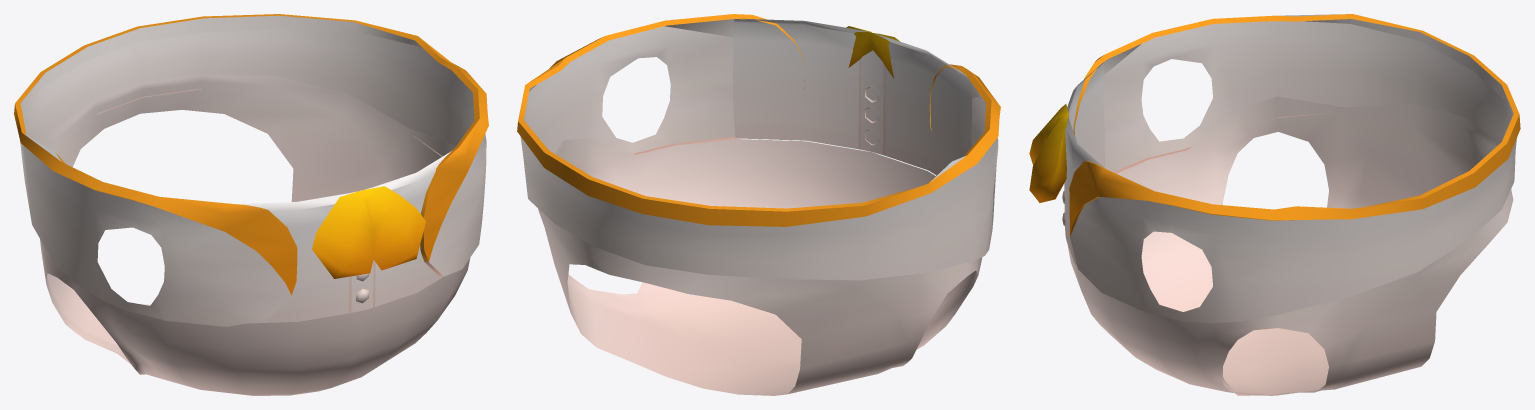
The model's file is Cloth_Mexico.fbx.
3 views of the same model, side by side, from view 1: azimuth 30°, elevation 25°; view 2: azimuth 150°, elevation 25°; view 3: azimuth 270°, elevation 25° (orthographic).
Visible parts, largest first — view 1: Cloth_Mexico; view 2: Cloth_Mexico; view 3: Cloth_Mexico.
Part boxes in pixels (bbox=[...]): Cloth_Mexico: bbox=[14, 14, 488, 395]; Cloth_Mexico: bbox=[517, 14, 1000, 395]; Cloth_Mexico: bbox=[1029, 14, 1520, 395].
Bounding box in the file's own units: 133 × 75.28 × 136.
